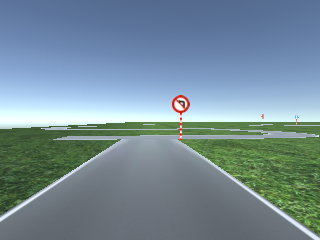-5: (1, 184, 320, 239)
NoLeft: (171, 94, 191, 113)
